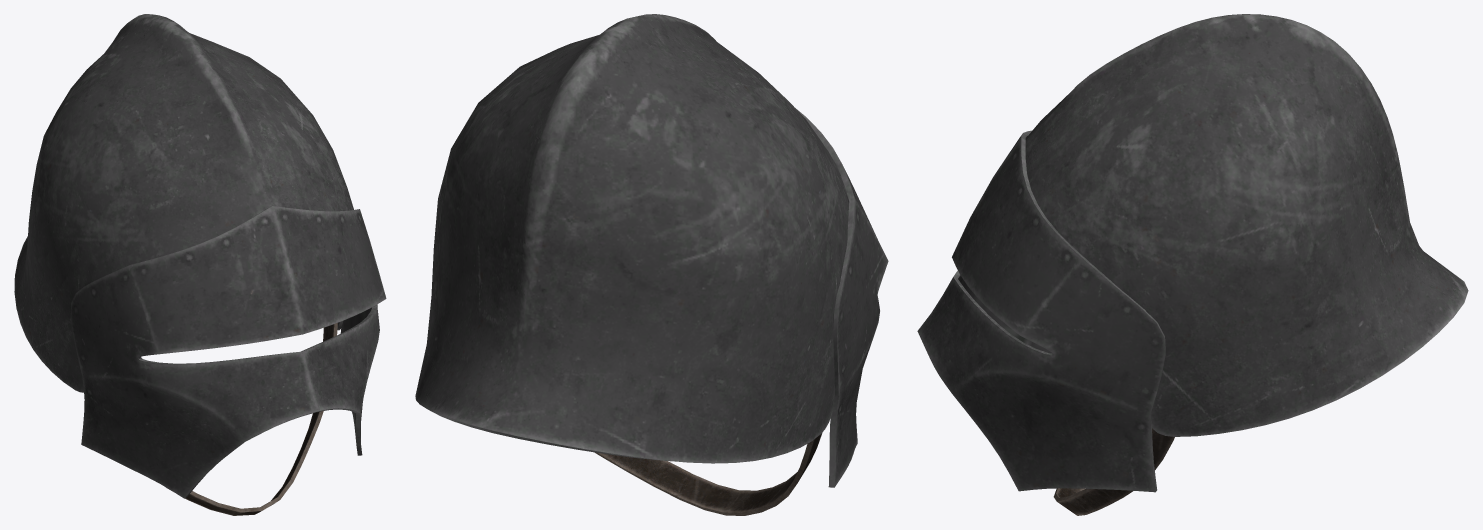
Rendered from sk_uruk_hai_helmet_sword_light_a4.fbx.
3 renders of one model, left to right at view 1: azimuth 30°, elevation 25°; view 2: azimuth 150°, elevation 25°; view 3: azimuth 270°, elevation 25°, orthographic. The views are drawn at different scales.
Visible parts, largest first — view 1: sk_uruk_hai_helmet_sword_light_a4.1, sk_uruk_hai_helmet_sword_light_a4.0; view 2: sk_uruk_hai_helmet_sword_light_a4.1, sk_uruk_hai_helmet_sword_light_a4.0; view 3: sk_uruk_hai_helmet_sword_light_a4.1, sk_uruk_hai_helmet_sword_light_a4.0.
Boxes of the visible parts, x1=… form: sk_uruk_hai_helmet_sword_light_a4.1: x1=14, y1=14, x2=386, y2=498; sk_uruk_hai_helmet_sword_light_a4.0: x1=167, y1=323, x2=337, y2=515; sk_uruk_hai_helmet_sword_light_a4.1: x1=415, y1=14, x2=888, y2=487; sk_uruk_hai_helmet_sword_light_a4.0: x1=594, y1=432, x2=822, y2=515; sk_uruk_hai_helmet_sword_light_a4.1: x1=917, y1=14, x2=1468, y2=492; sk_uruk_hai_helmet_sword_light_a4.0: x1=1053, y1=428, x2=1174, y2=515.
Size of the model in its own units: 0.2081 by 0.3196 by 0.3151.
Materials: 2 (2 with a texture image).
